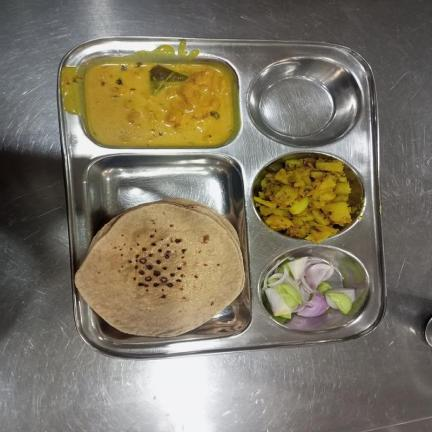Curry: (84, 62, 234, 146)
Plate: (56, 36, 388, 359)
Roti: (74, 196, 246, 336)
Salad: (262, 254, 357, 321)
Zeera Aalu: (256, 157, 353, 244)
